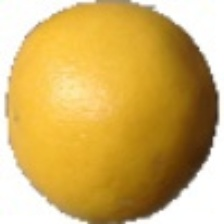grapes: (47, 23, 209, 183)
